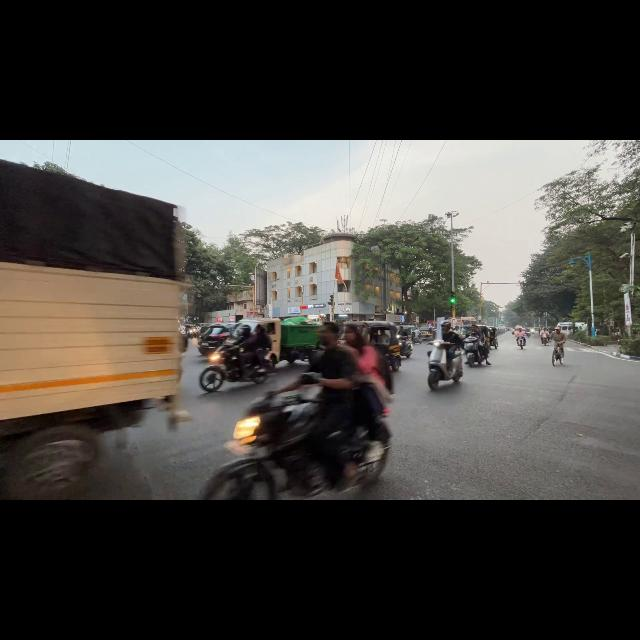bicycle: (552, 343, 563, 365)
motorcycle: (201, 393, 330, 499), (199, 342, 268, 392), (428, 340, 462, 389), (464, 335, 484, 367), (400, 336, 412, 358), (517, 336, 525, 349), (412, 335, 422, 344), (542, 335, 548, 345), (526, 331, 530, 337)
truck: (0, 161, 188, 499)
